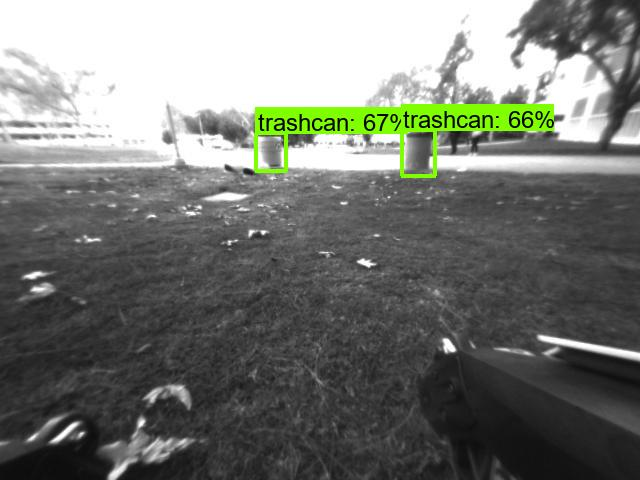trashcan: (400, 131, 436, 178), (255, 134, 288, 171)
